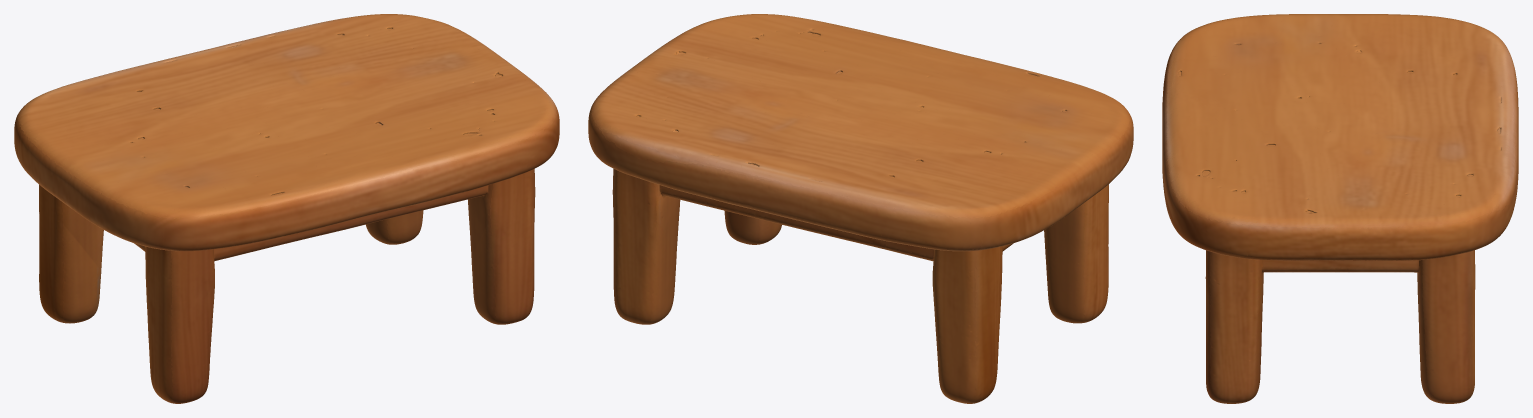
The model's file is dining-table.glb.
The picture shows the model from 3 angles, left to right: view 1: azimuth 30°, elevation 25°; view 2: azimuth 150°, elevation 25°; view 3: azimuth 270°, elevation 25°; orthographic projection.
Visible parts, largest first — view 1: geometry_0; view 2: geometry_0; view 3: geometry_0.
Boxes of the visible parts, left/top/right/bottom form: geometry_0: left=14, top=14, right=559, bottom=403; geometry_0: left=588, top=14, right=1133, bottom=403; geometry_0: left=1162, top=14, right=1518, bottom=403.
Size of the model in its own units: 0.45 by 0.1982 by 0.3134.
1 material, 1 textured.
